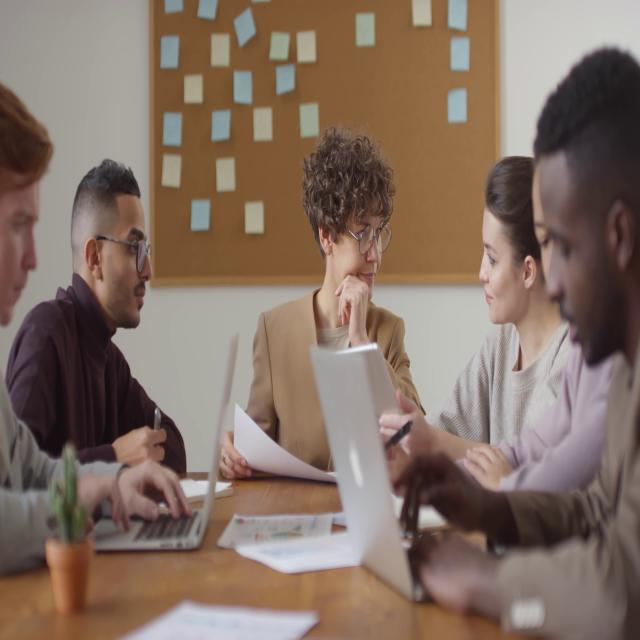not-gloved: (392, 449, 486, 535), (111, 457, 192, 530), (379, 410, 438, 458), (464, 443, 514, 495), (334, 273, 370, 344), (111, 423, 167, 468)
